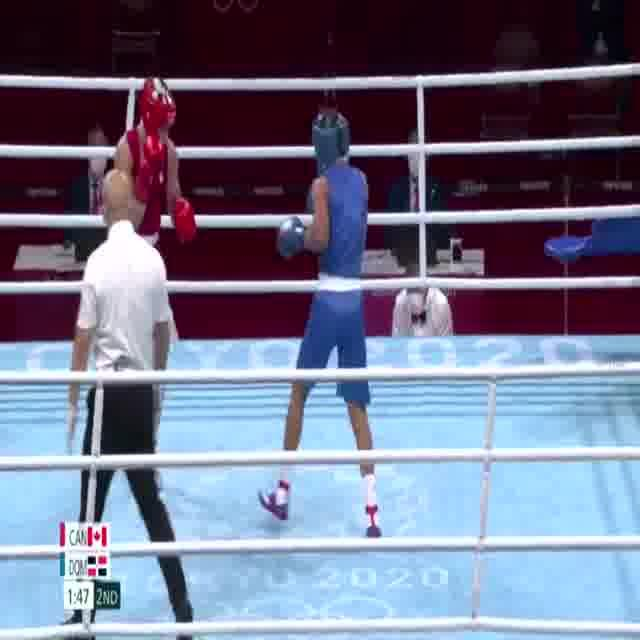blue-player: (254, 106, 385, 547)
red-player: (106, 78, 200, 494)
referee: (60, 170, 197, 640)
